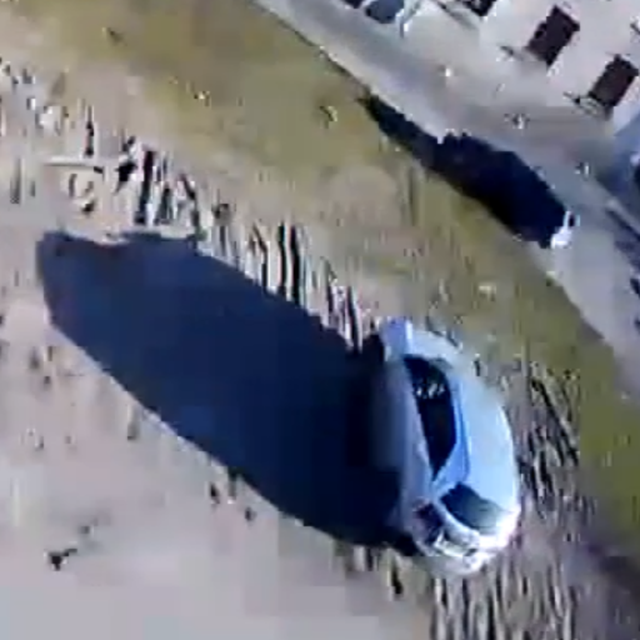car: (362, 318, 517, 577)
